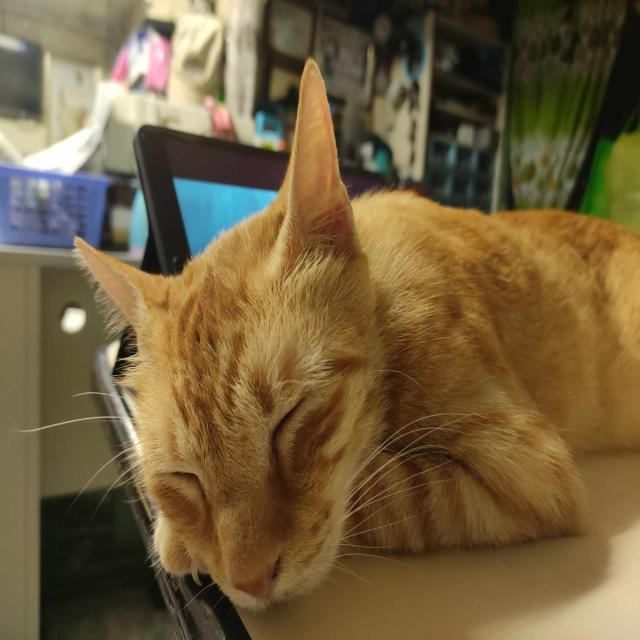da khoe manh: (396, 219, 640, 435)
